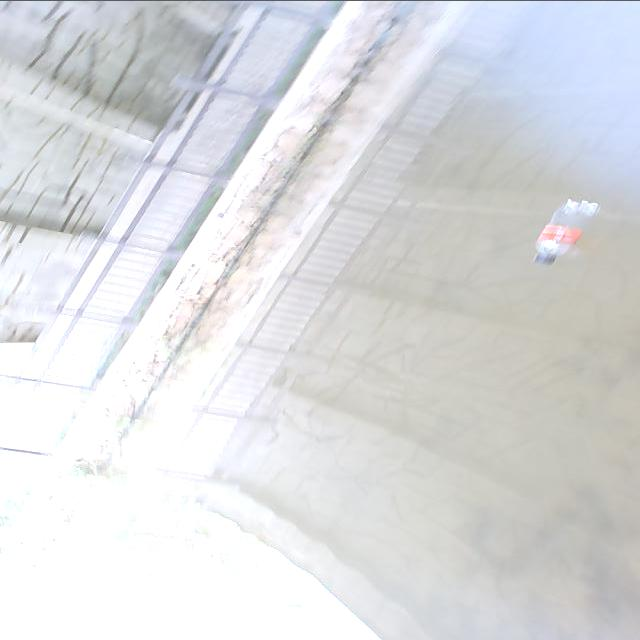bottle: (512, 186, 604, 277)
